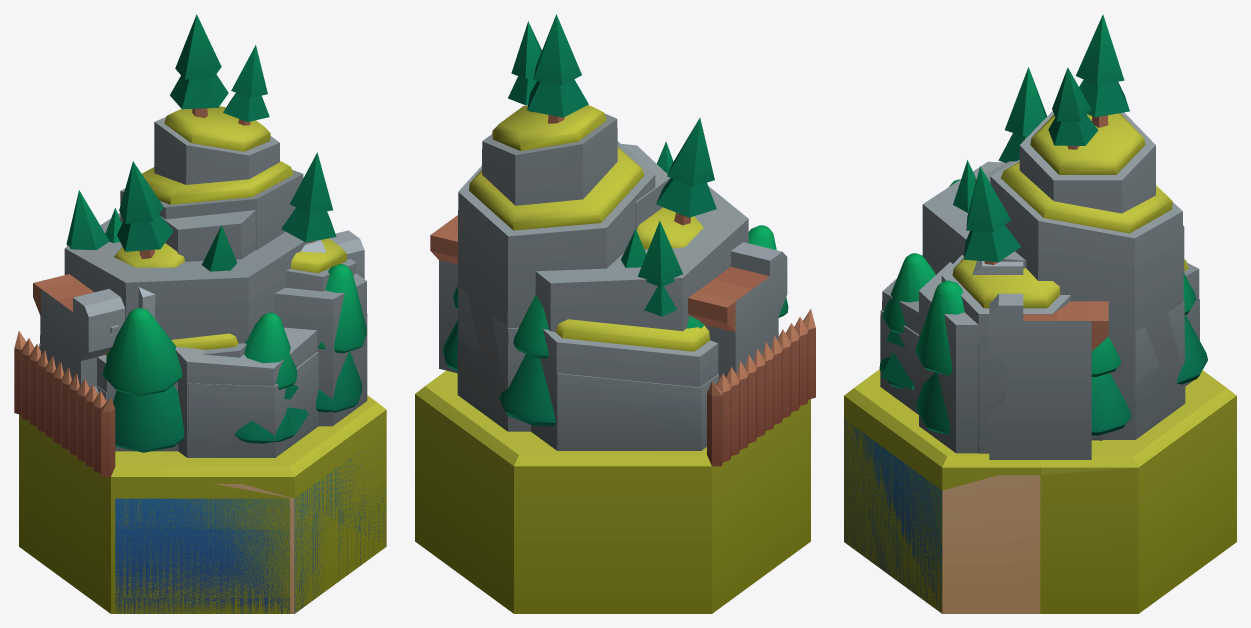
The model's file is outdoor.glb.
3 views of the same model, side by side, from view 1: azimuth 30°, elevation 25°; view 2: azimuth 150°, elevation 25°; view 3: azimuth 270°, elevation 25° (orthographic). The views are drawn at different scales.
Visible parts, largest first — view 1: mountain_B_grass_trees, hex_grass, mountain_A, hex_water, hex_coast_A, trees_B_large, wall_straight, fence_wood_straight, trees_A_medium; view 2: hex_coast_A, mountain_B_grass_trees, mountain_A, wall_straight, fence_wood_straight, trees_B_large, trees_A_medium; view 3: mountain_B_grass_trees, hex_coast_A, hex_grass, wall_straight, mountain_A, trees_B_large, hex_water, trees_A_medium.
Part boxes in pixels (x1,y1,x2,y2): mountain_B_grass_trees: (40,14,356,457); hex_grass: (115,395,386,613); mountain_A: (39,210,367,457); hex_water: (114,437,385,613); hex_coast_A: (19,414,294,613); trees_B_large: (102,264,366,452); wall_straight: (33,230,364,393); fence_wood_straight: (14,331,115,476); trees_A_medium: (105,208,323,434); hex_coast_A: (415,370,810,613); mountain_B_grass_trees: (457,14,718,449); mountain_A: (458,144,748,450); wall_straight: (430,215,787,378); fence_wood_straight: (707,309,815,466); trees_B_large: (443,225,788,426); trees_A_medium: (621,229,646,267); mountain_B_grass_trees: (880,14,1199,453); hex_coast_A: (844,370,1236,613); hex_grass: (844,369,1043,613); wall_straight: (972,162,1108,459); mountain_A: (882,161,1199,453); trees_B_large: (879,179,1207,438); hex_water: (844,419,942,611); trees_A_medium: (880,330,1186,389).
Bounding box in the file's own units: 2.05 × 3.5 × 2.31.
Materials: 1 (1 with a texture image).
